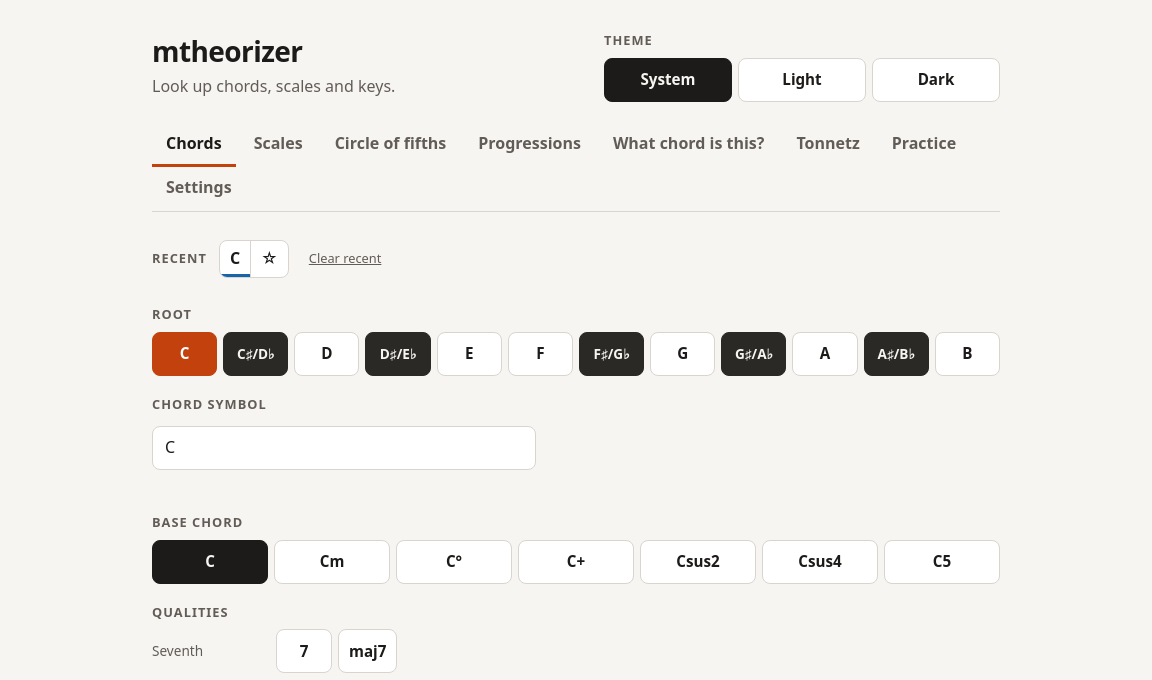
recent and favorite choices › clears favorites
What coordinates should you click on to do the following:
click the button named "Favorite C (Piano)"
I would click on:
 (269, 259)
Its box is x1=250 y1=241 x2=288 y2=277.
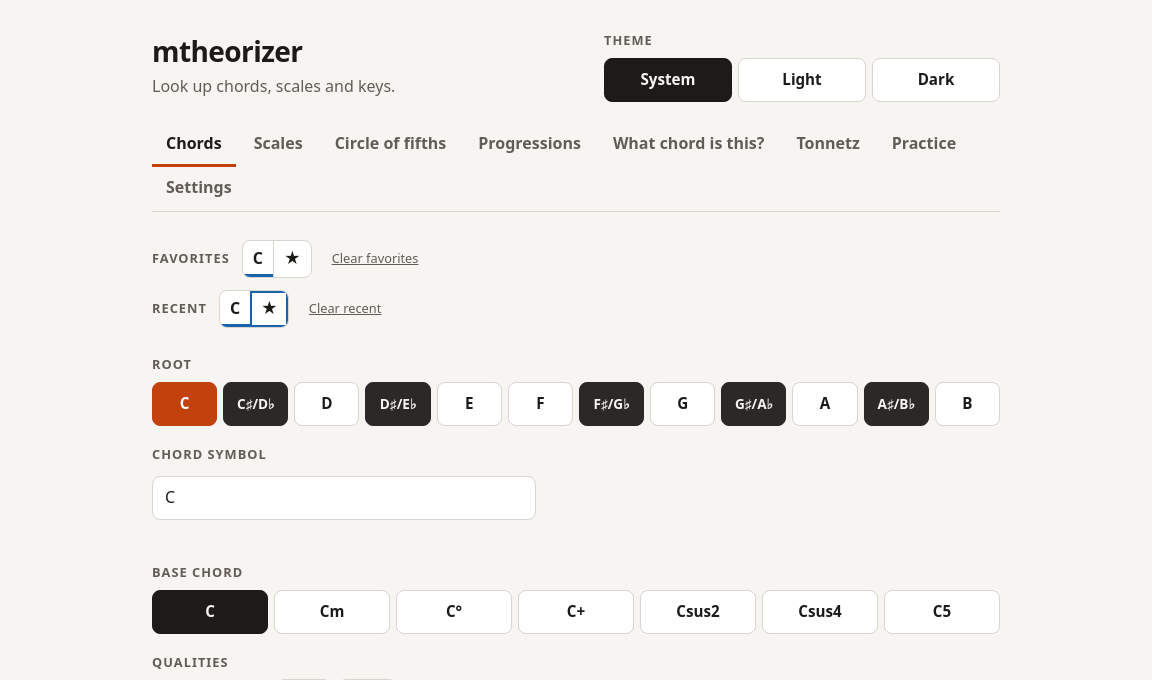
What coordinates should you click on to do the following:
click the button "Clear favorites"
I would click on:
 (375, 259)
Its box is x1=324 y1=246 x2=426 y2=272.
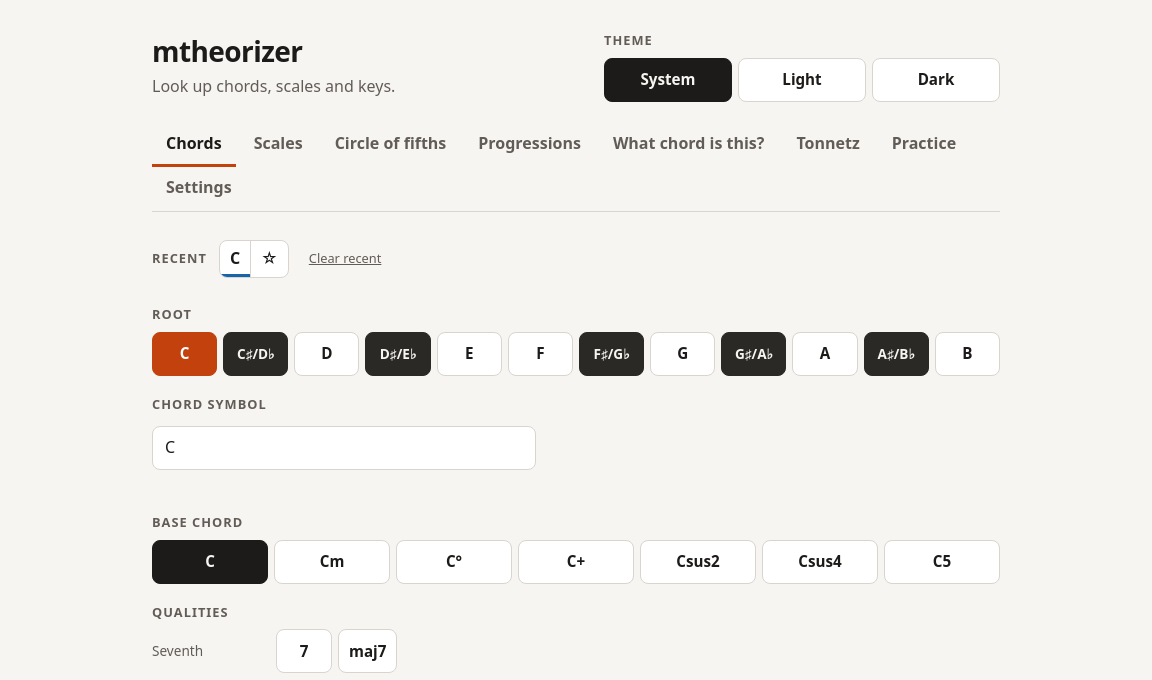
Result: the text "Favorites" is gone
